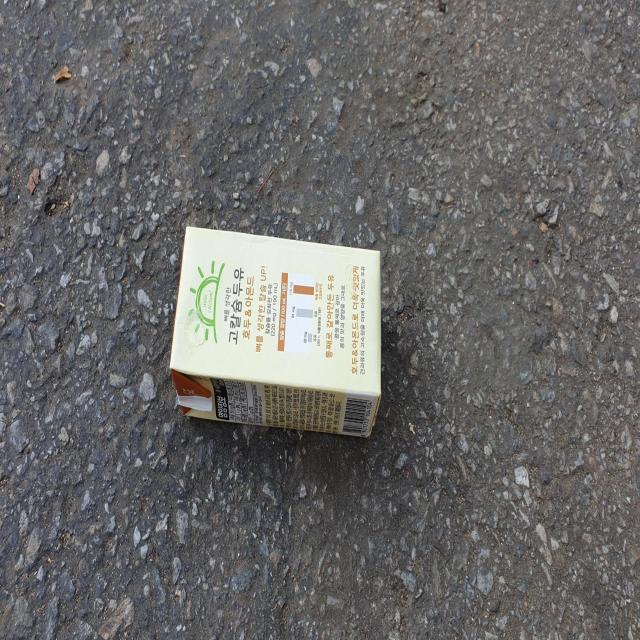paperpack: (170, 225, 381, 437)
